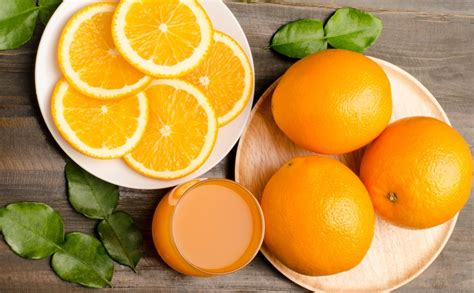orange: (260, 152, 378, 278), (357, 110, 474, 234), (268, 46, 395, 154)
